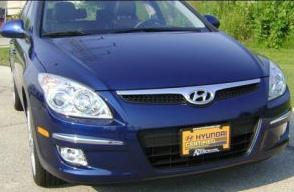front_view: (36, 61, 293, 183)
headlight: (35, 68, 116, 123)
